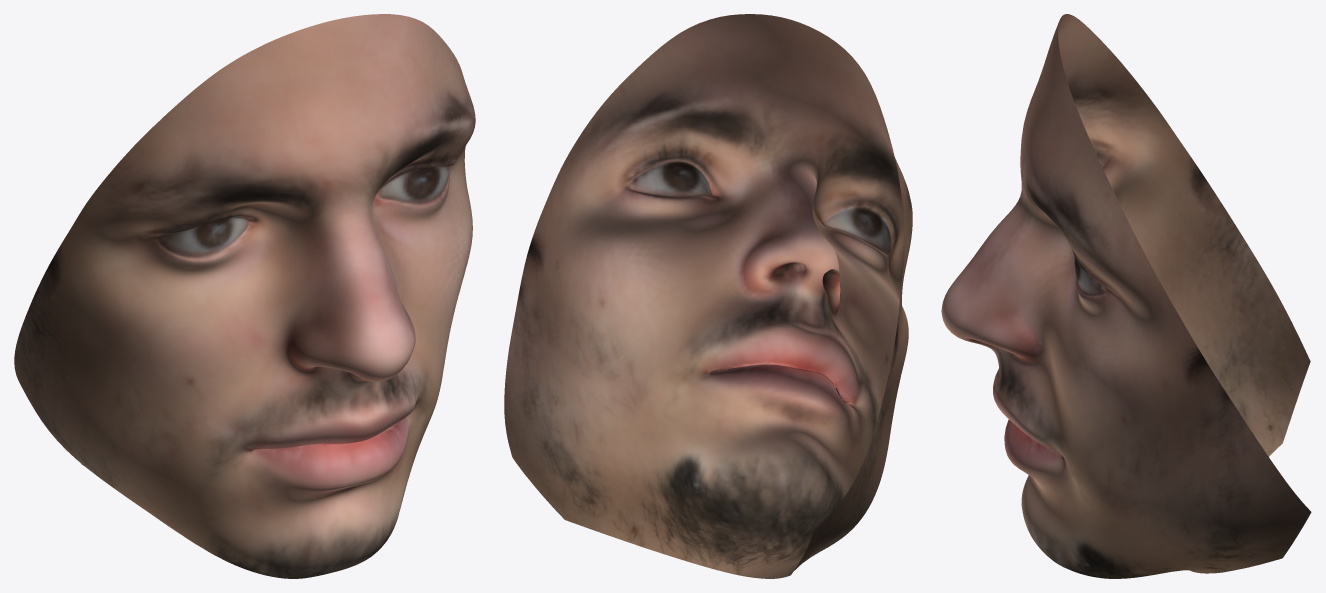
The picture shows the model from 3 angles, left to right: view 1: azimuth 30°, elevation 25°; view 2: azimuth 150°, elevation 25°; view 3: azimuth 270°, elevation 25°; orthographic projection. The views are drawn at different scales.
Parts seen in each view (by area): view 1: FaceBuilderHead.001; view 2: FaceBuilderHead.001; view 3: FaceBuilderHead.001.
Part boxes in pixels (x1,y1,x2,y2): FaceBuilderHead.001: [14, 14, 475, 578]; FaceBuilderHead.001: [504, 14, 912, 578]; FaceBuilderHead.001: [941, 14, 1311, 578].
Bounding box in the file's own units: 1.26 × 1.66 × 1.05.
1 material, 1 textured.
